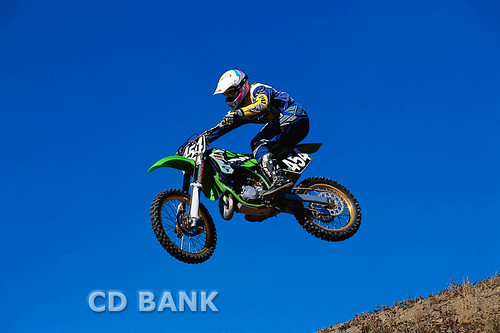helmet: (206, 60, 252, 105)
